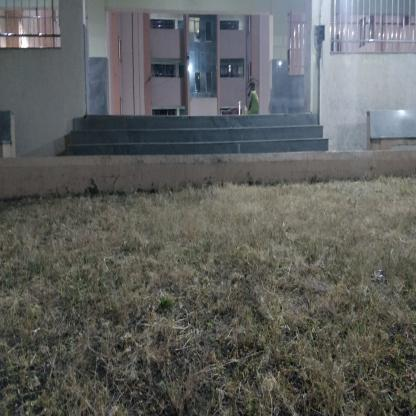stairs: (87, 114, 312, 152)
